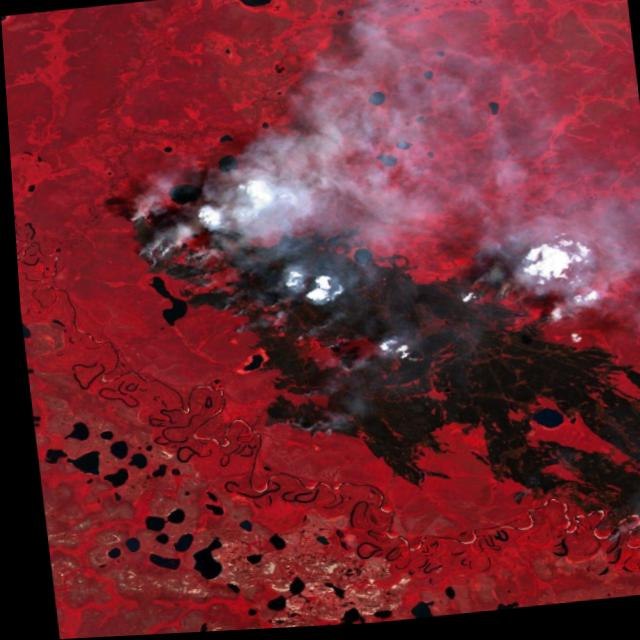fire: (114, 161, 640, 592)
